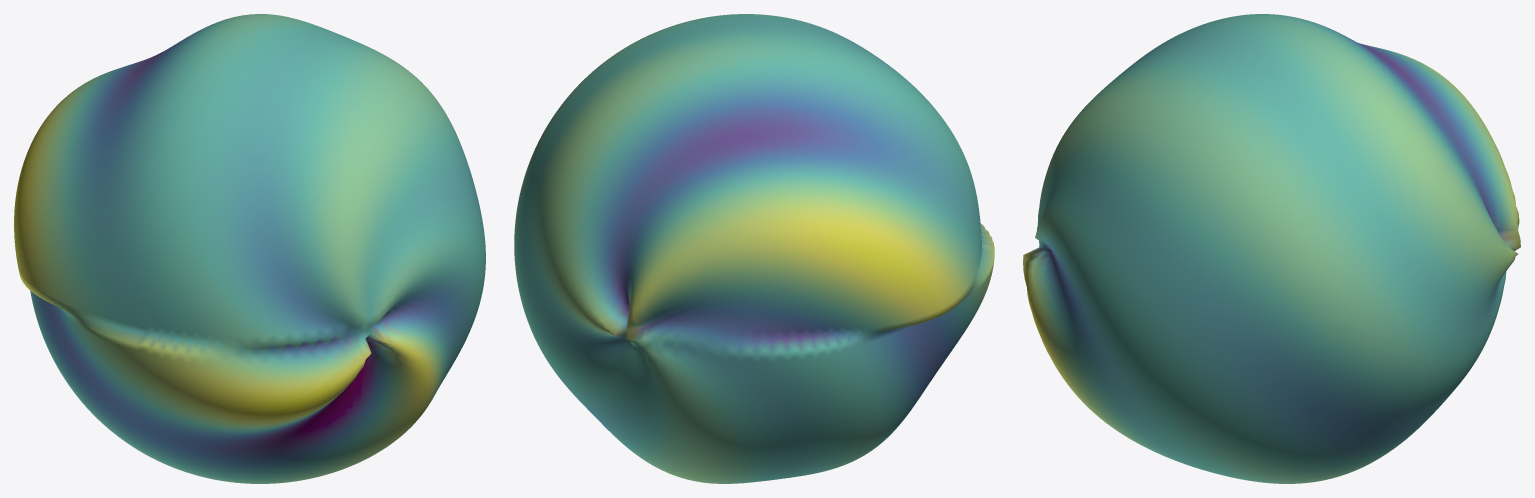
Rendered from sphere_frame_0020.glb.
The picture shows the model from 3 angles, left to right: view 1: azimuth 30°, elevation 25°; view 2: azimuth 150°, elevation 25°; view 3: azimuth 270°, elevation 25°; orthographic projection.
Parts seen in each view (by area): view 1: world; view 2: world; view 3: world.
Boxes of the visible parts, box(x1,y1,x2,y2) form: world: box(14, 14, 485, 483); world: box(514, 14, 994, 483); world: box(1023, 14, 1520, 483).
Size of the model in its own units: 2.2 by 2.16 by 2.29.
